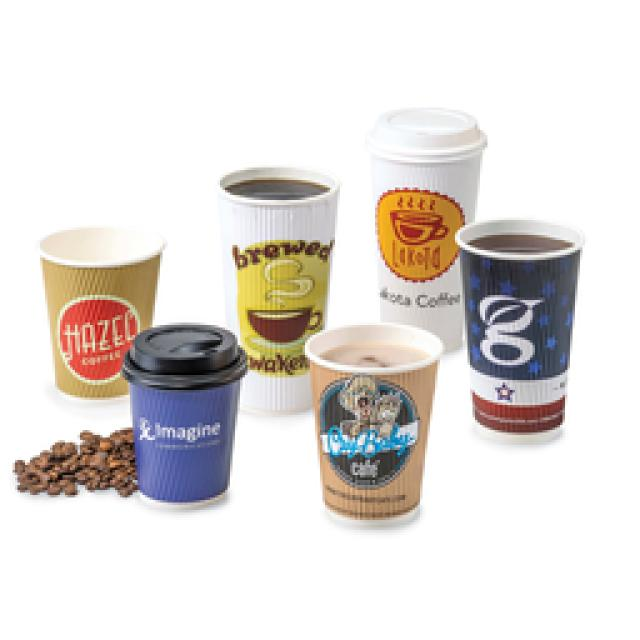paper_cups: (219, 161, 344, 416), (361, 106, 487, 353), (310, 329, 444, 532), (462, 220, 580, 442), (119, 319, 246, 509), (41, 224, 165, 399)
